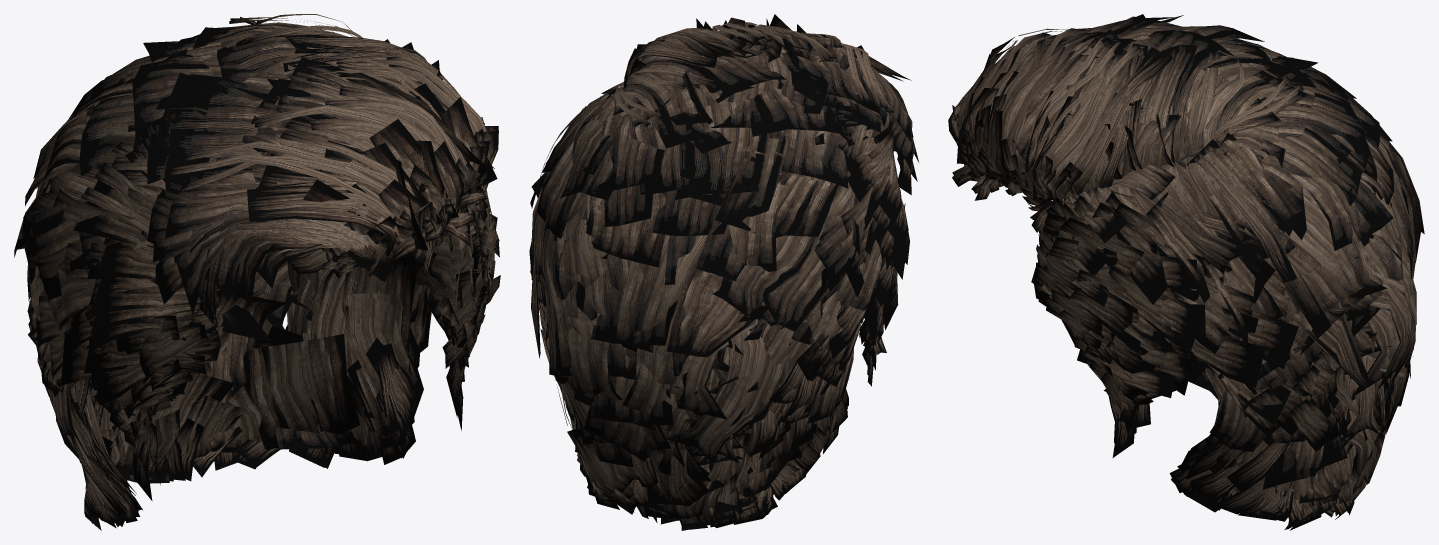
The model's file is haircut1.glb.
3 renders of one model, left to right at view 1: azimuth 30°, elevation 25°; view 2: azimuth 150°, elevation 25°; view 3: azimuth 270°, elevation 25°, orthographic. The views are drawn at different scales.
Visible parts, largest first — view 1: Martin Hair_Martin Hair_0; view 2: Martin Hair_Martin Hair_0; view 3: Martin Hair_Martin Hair_0.
Boxes of the visible parts, box(x1,y1,x2,y2) form: Martin Hair_Martin Hair_0: box(14, 14, 500, 530); Martin Hair_Martin Hair_0: box(529, 14, 918, 530); Martin Hair_Martin Hair_0: box(948, 14, 1424, 530).
Bounding box in the file's own units: 0.2273 × 0.2731 × 0.2594.
1 material, 1 textured.
